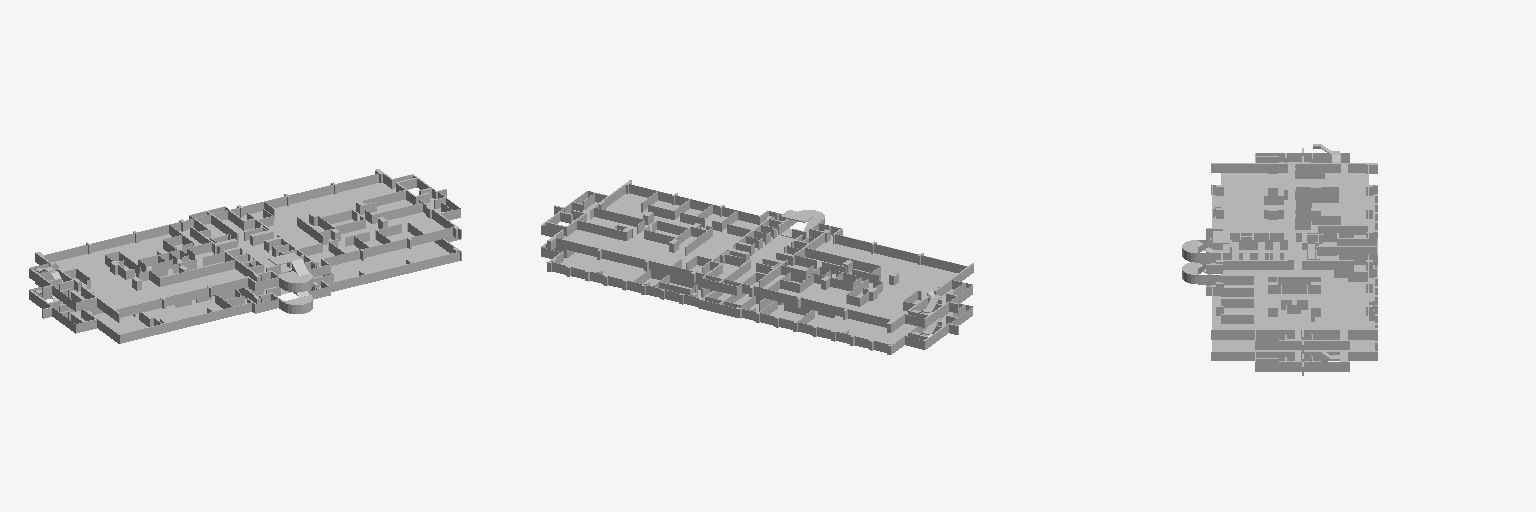
File: setimo_consertado_escada_central.obj
3 renders of one model, left to right at view 1: azimuth 30°, elevation 25°; view 2: azimuth 150°, elevation 25°; view 3: azimuth 270°, elevation 25°, orthographic.
Bounding box in the file's own units: 64.28 × 6.71 × 27.01.